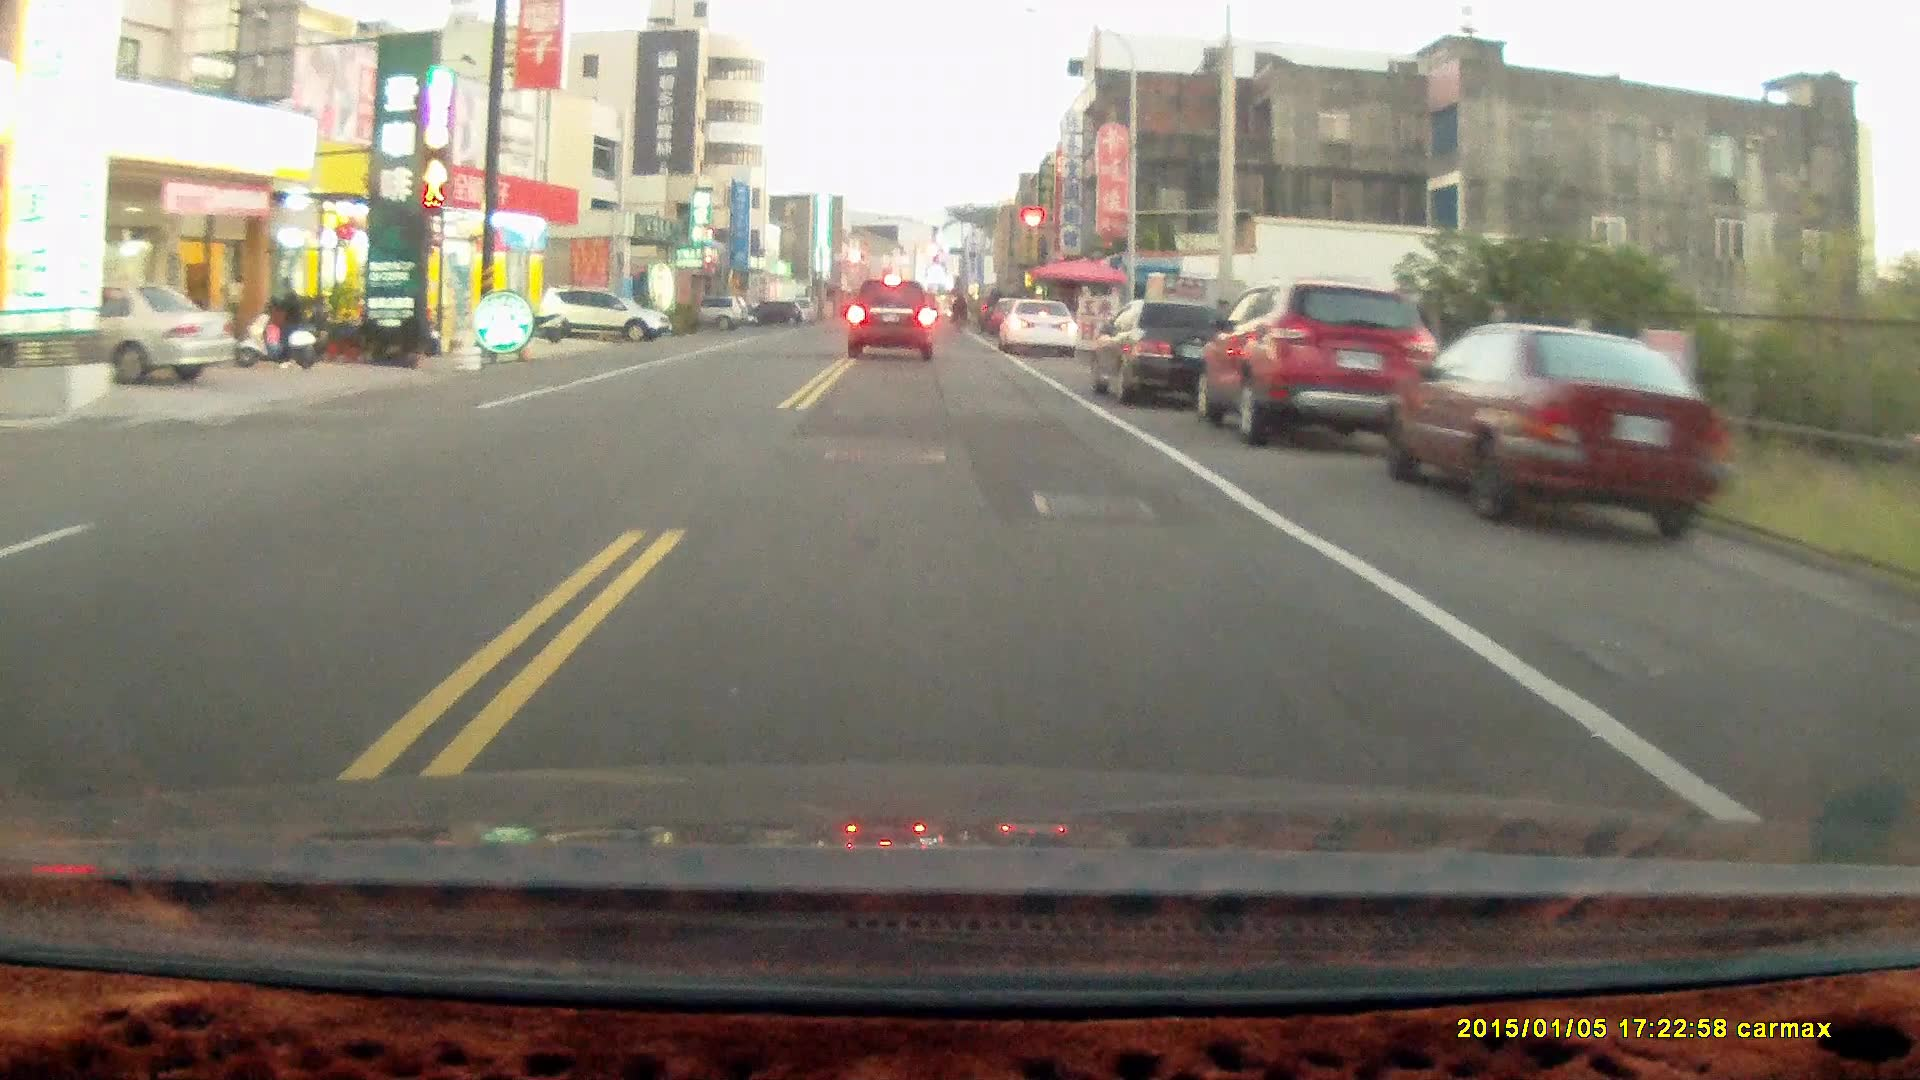vehicle: (1382, 320, 1737, 547), (1203, 276, 1452, 444), (17, 286, 237, 389), (1091, 299, 1245, 407), (539, 284, 674, 347), (847, 281, 938, 364), (1000, 297, 1080, 357)
